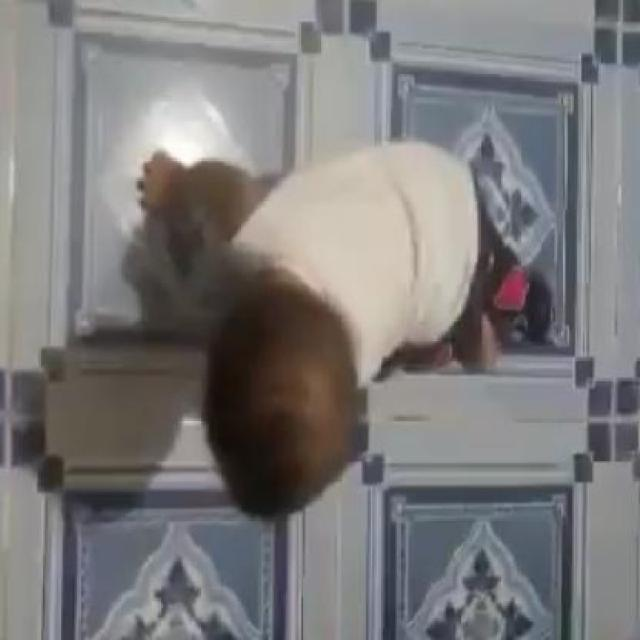baby: (134, 143, 548, 522)
